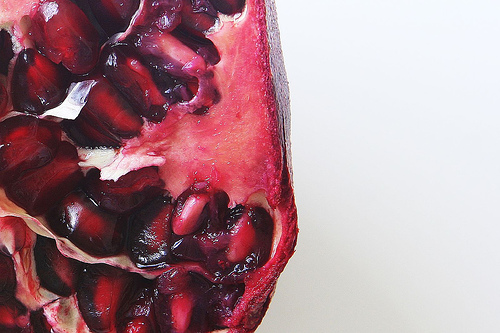pomogranate: (1, 0, 301, 332)
